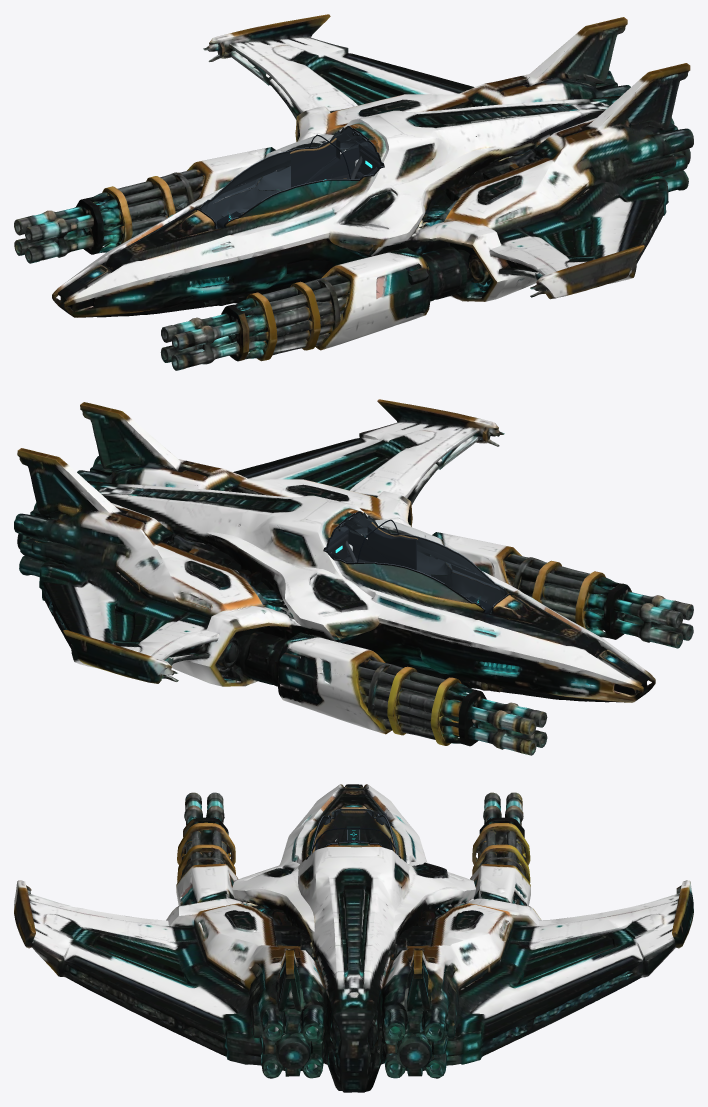
Rendered from blaster_cockpit_v04.glb.
The picture shows the model from 3 angles, top to bottom: view 1: azimuth 30°, elevation 25°; view 2: azimuth 150°, elevation 25°; view 3: azimuth 270°, elevation 25°; orthographic projection.
Visible parts, largest first — view 1: Blaster_Hull_01_Glazed, LIN13_blaster_ConformalCabinShell, Blaster_v04_L_InnerSillLiner, GL11_blaster_CanopyGasket_0, Blaster_v04_L_TaperedSidewall, Blaster_Windshield_Glass; view 2: Blaster_Hull_01_Glazed, LIN13_blaster_ConformalCabinShell, Blaster_v04_R_InnerSillLiner, GL11_blaster_CanopyGasket_0, Blaster_v04_R_TaperedSidewall, Blaster_Windshield_Glass; view 3: Blaster_Hull_01_Glazed.
Part boxes in pixels (bbox=[...]): Blaster_Hull_01_Glazed: bbox=[14, 14, 693, 370]; LIN13_blaster_ConformalCabinShell: bbox=[201, 127, 438, 251]; Blaster_v04_L_InnerSillLiner: bbox=[291, 139, 340, 187]; GL11_blaster_CanopyGasket_0: bbox=[196, 126, 384, 229]; Blaster_v04_L_TaperedSidewall: bbox=[309, 139, 363, 182]; Blaster_Windshield_Glass: bbox=[210, 128, 367, 199]; Blaster_Hull_01_Glazed: bbox=[14, 399, 693, 755]; LIN13_blaster_ConformalCabinShell: bbox=[269, 510, 505, 691]; Blaster_v04_R_InnerSillLiner: bbox=[367, 523, 416, 570]; GL11_blaster_CanopyGasket_0: bbox=[323, 511, 511, 614]; Blaster_v04_R_TaperedSidewall: bbox=[344, 524, 394, 564]; Blaster_Windshield_Glass: bbox=[340, 513, 507, 593]; Blaster_Hull_01_Glazed: bbox=[14, 784, 693, 1092].
Bounding box in the file's own units: 1.9 × 0.4768 × 1.83.
Materials: 21 (1 with a texture image).
